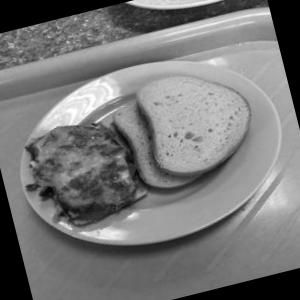bread: (109, 44, 272, 219)
cheese_sandwich: (6, 102, 154, 251)
